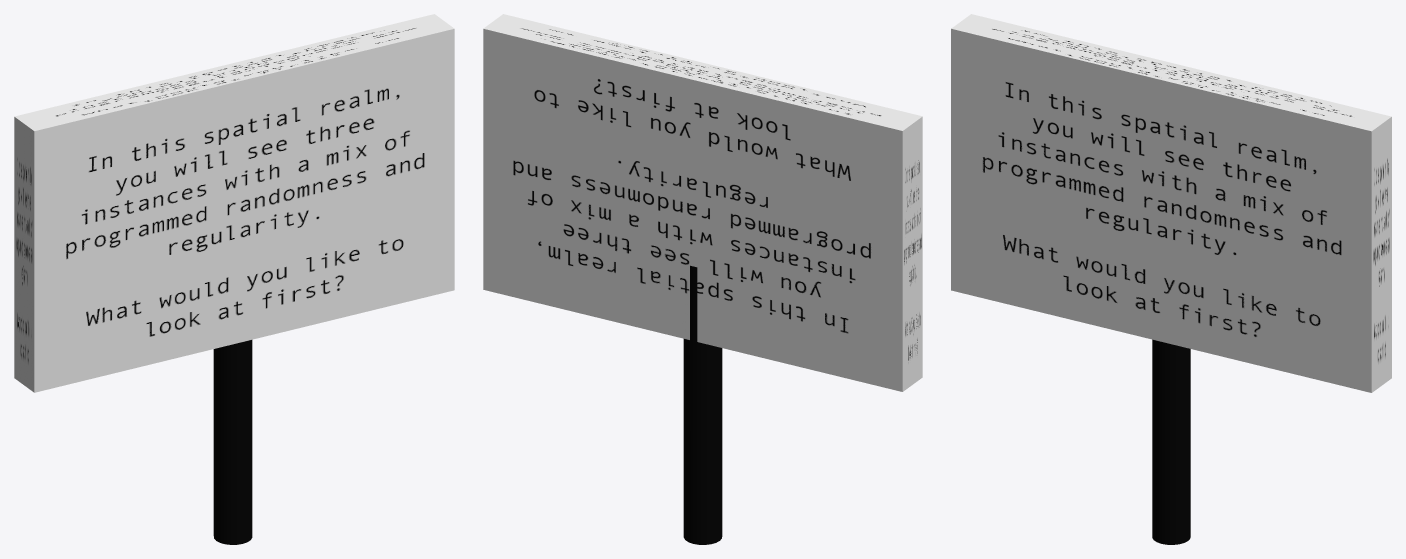
The model's file is fixed_road_sign.fbx.
3 views of the same model, side by side, from view 1: azimuth 30°, elevation 25°; view 2: azimuth 150°, elevation 25°; view 3: azimuth 330°, elevation 25° (orthographic).
Visible parts, largest first — view 1: pCube2, polySurface2, pCylinder2; view 2: polySurface2, pCube2, pCylinder2; view 3: pCube2, polySurface2, pCylinder2.
Boxes of the visible parts, box(x1,y1,x2,y2) form: pCube2: box(15, 29, 454, 392); polySurface2: box(14, 14, 454, 543); pCylinder2: box(213, 342, 244, 544); polySurface2: box(483, 14, 922, 543); pCube2: box(483, 29, 922, 386); pCylinder2: box(689, 267, 722, 544); pCube2: box(951, 28, 1391, 392); polySurface2: box(951, 14, 1391, 544); pCylinder2: box(1152, 339, 1190, 543).
Bounding box in the file's own units: 12.53 × 13.23 × 1.06.
